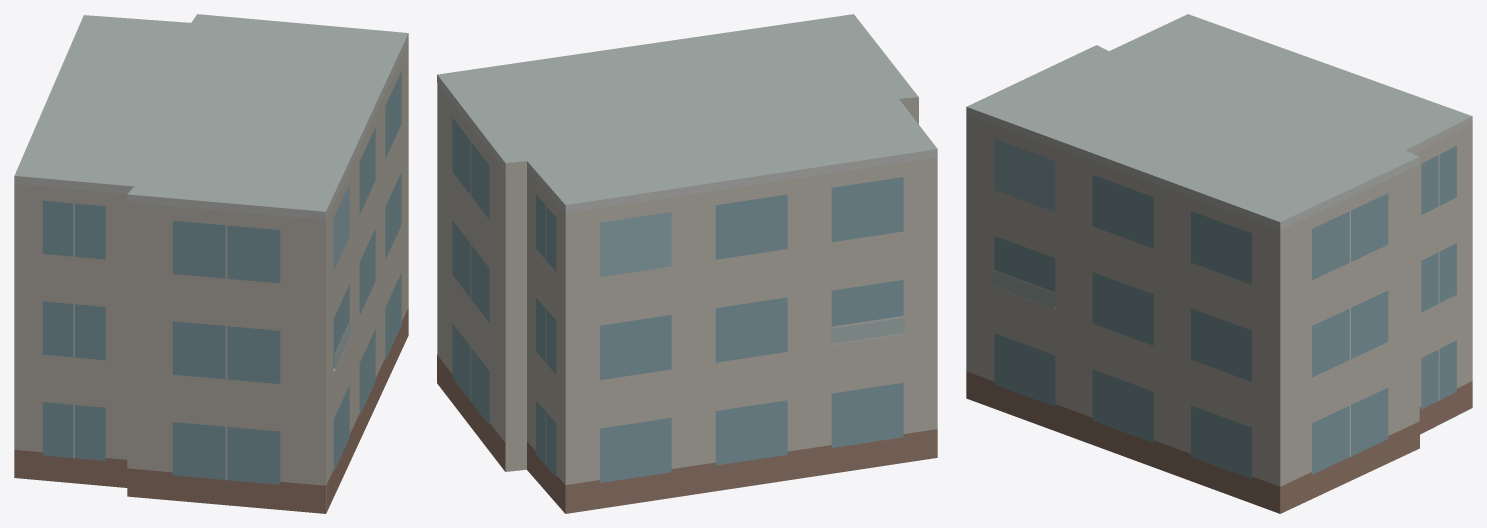
The model's file is survey-upis-32786726.glb.
The picture shows the model from 3 angles, left to right: view 1: azimuth 30°, elevation 25°; view 2: azimuth 150°, elevation 25°; view 3: azimuth 270°, elevation 25°; orthographic projection. The views are drawn at different scales.
Parts seen in each view (by area): view 1: survey-upis-32786726.tmp; view 2: survey-upis-32786726.tmp; view 3: survey-upis-32786726.tmp.
Boxes of the visible parts, bbox=[...] form: survey-upis-32786726.tmp: bbox=[14, 14, 408, 513]; survey-upis-32786726.tmp: bbox=[437, 14, 937, 513]; survey-upis-32786726.tmp: bbox=[966, 14, 1472, 513].
Size of the model in its own units: 14.02 by 9.15 by 14.4.
